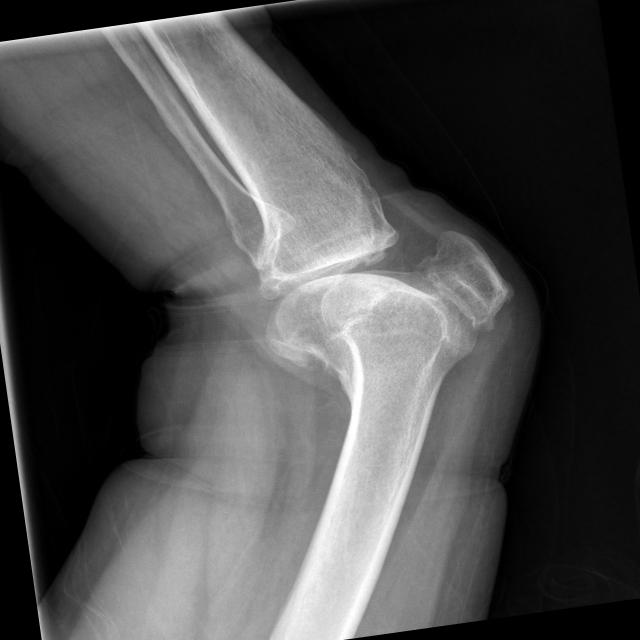Knee: (242, 179, 522, 393)
